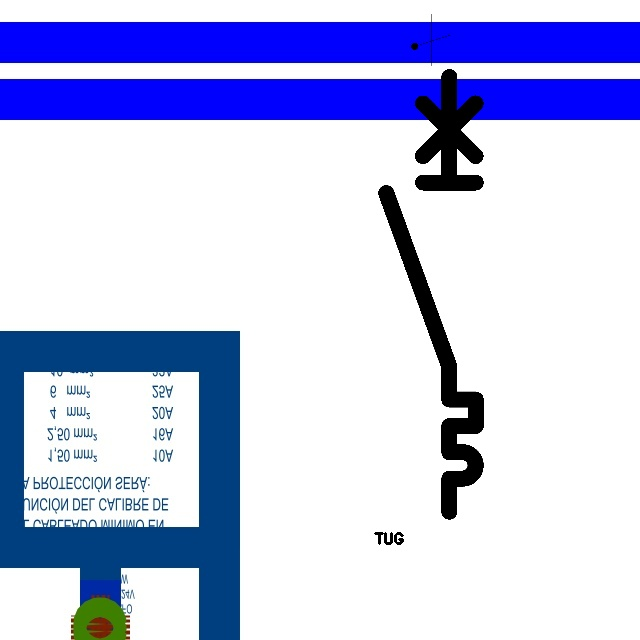interruptor_termomagnetico: (375, 65, 487, 522)
